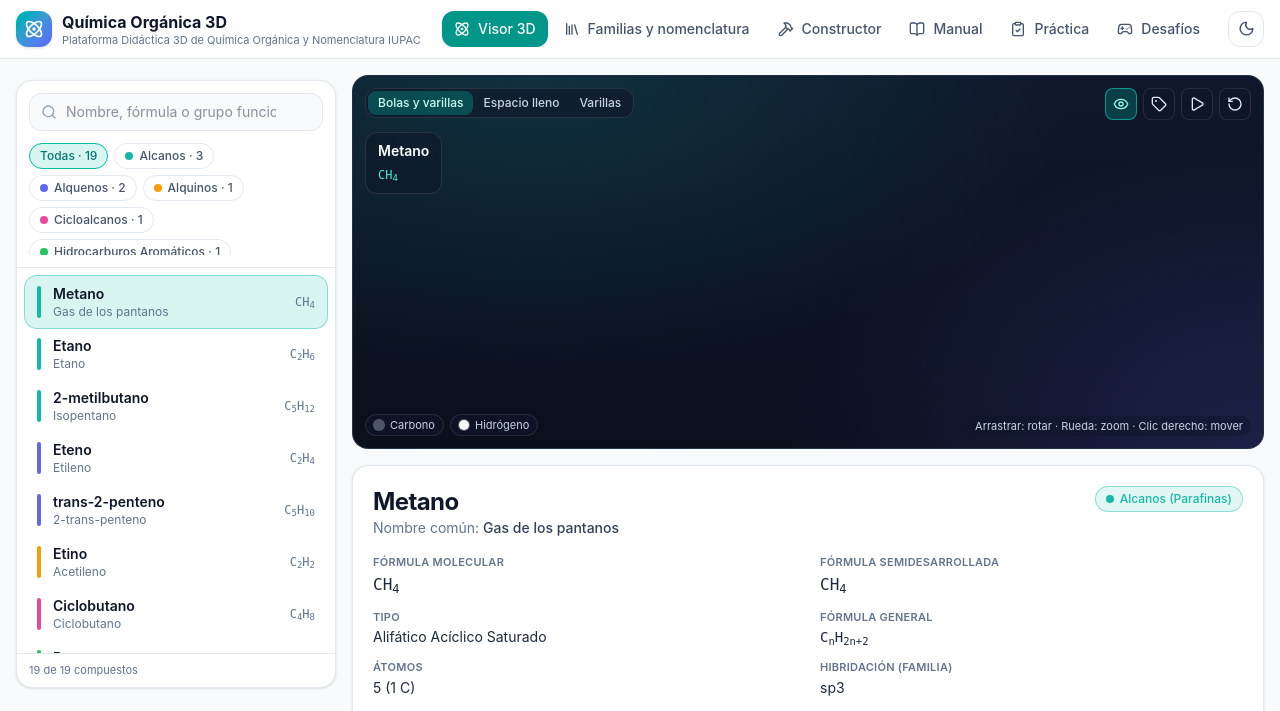
Constructor ampliado › arma un éter y un éster con los grupos nuevos
This screenshot has width=1280, height=711.
Click the button "Constructor" at coordinates (829, 29), box 766,11 -> 893,47
(page scrolled)
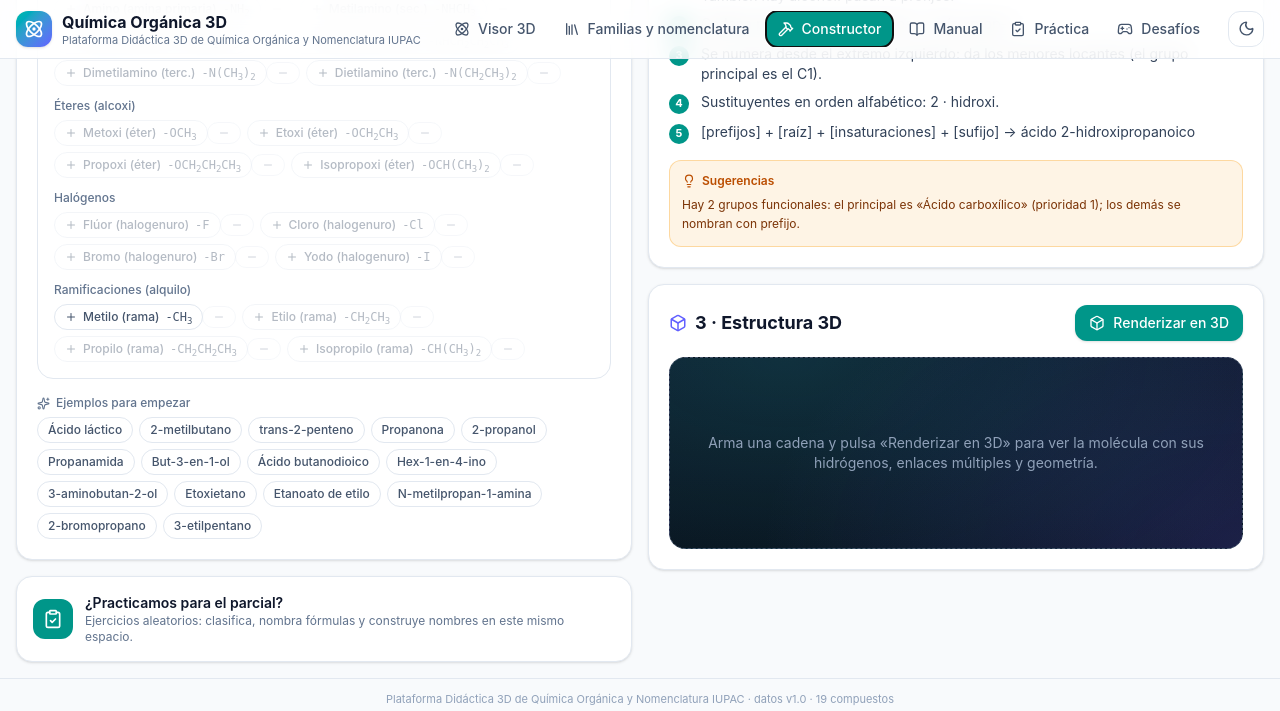
Click the button "Etoxietano" at coordinates (216, 494), box 174,481 -> 257,507
(page scrolled)
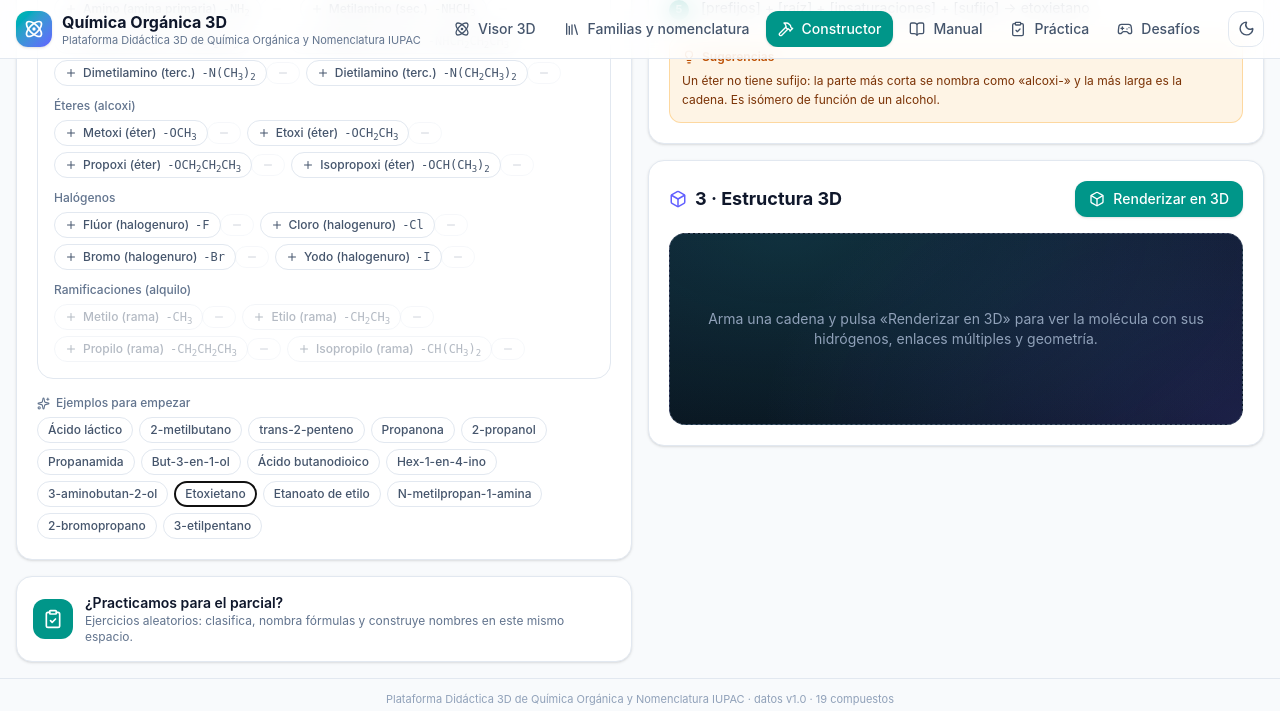
Click the button "Etanoato de etilo" at coordinates (322, 494), box 263,481 -> 381,507
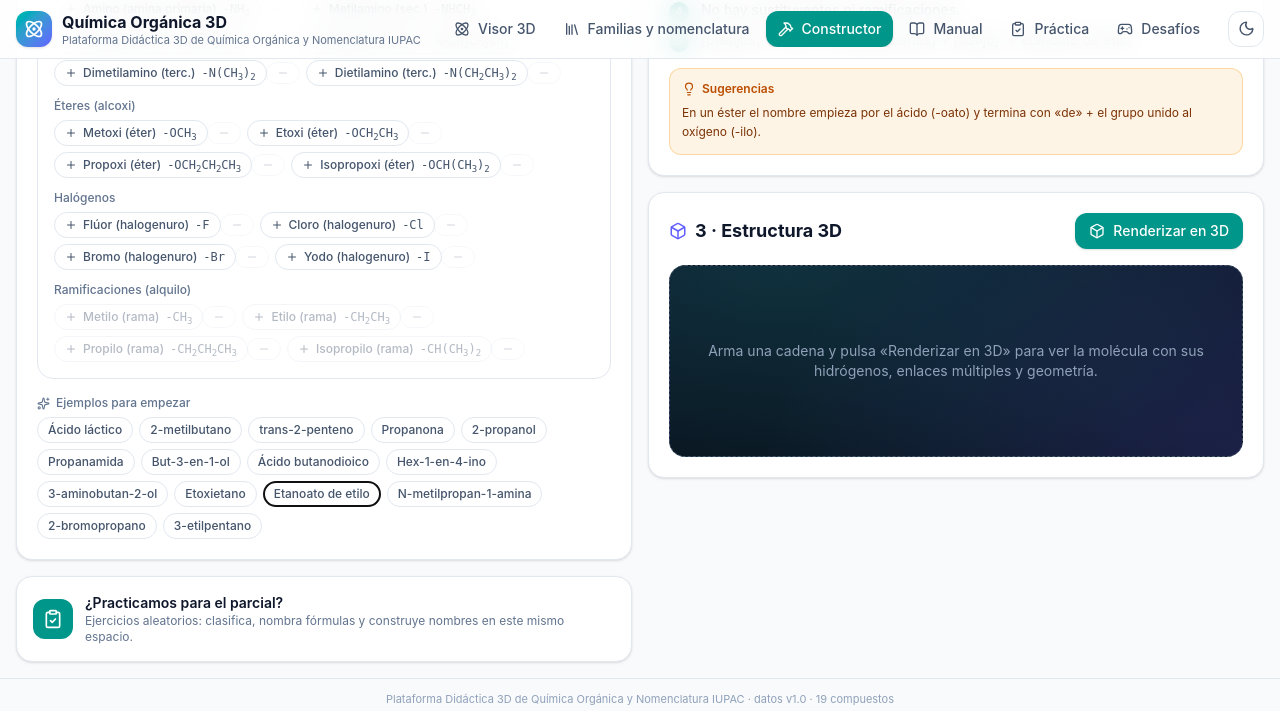
Click the button "N-metilpropan-1-amina" at coordinates (465, 494), box 387,481 -> 542,507
(page scrolled)
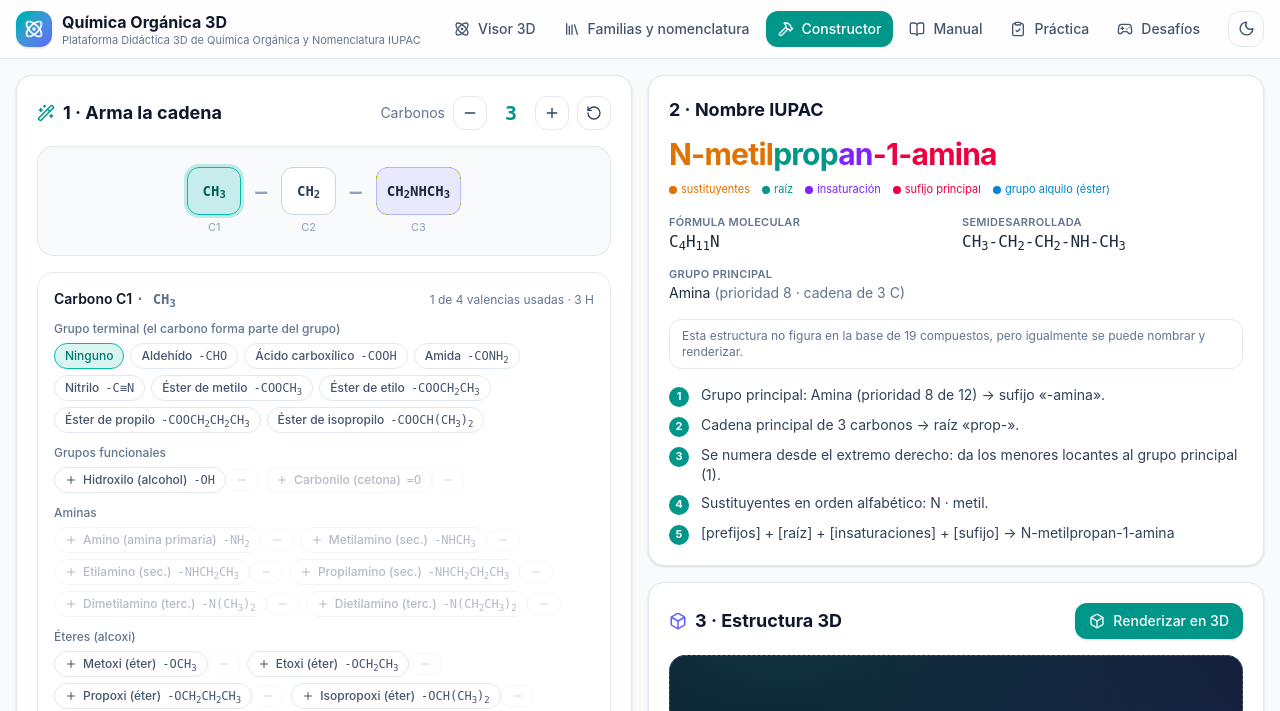
Expected: the element showing "N-metilpropan-1-amina" is shown, 669,136 -> 997,172
